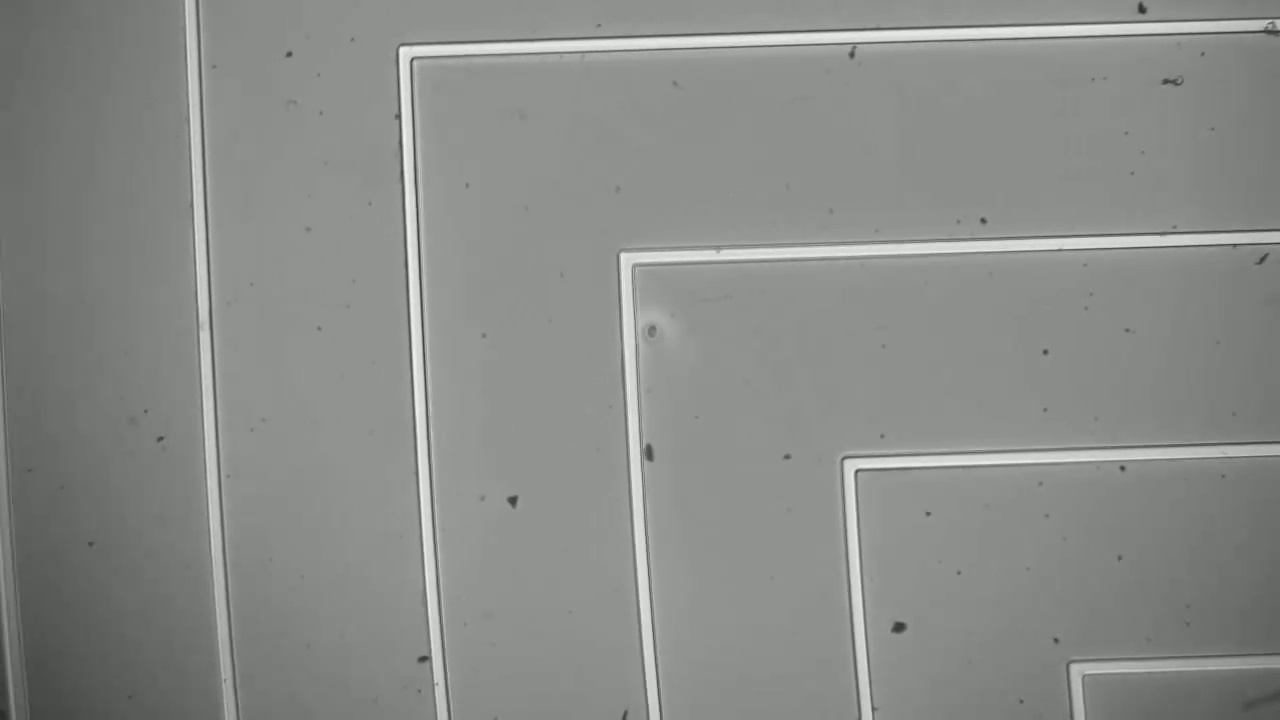stains_enbedded: (1248, 14, 1279, 41)
